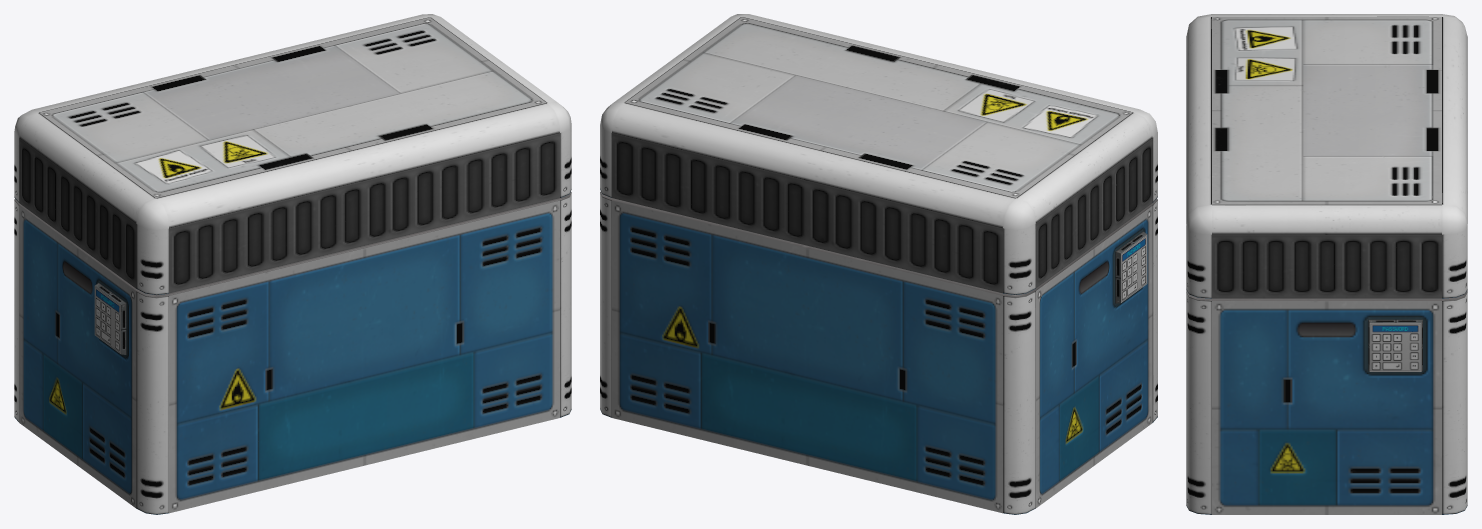
The model's file is Crate_01.FBX.
3 renders of one model, left to right at view 1: azimuth 30°, elevation 25°; view 2: azimuth 150°, elevation 25°; view 3: azimuth 270°, elevation 25°, orthographic.
Parts seen in each view (by area): view 1: CrateBase, CrateTop; view 2: CrateBase, CrateTop; view 3: CrateTop, CrateBase.
Part boxes in pixels (bbox=[...]): CrateBase: bbox=[14, 192, 571, 514]; CrateTop: bbox=[14, 14, 571, 295]; CrateBase: bbox=[600, 191, 1157, 514]; CrateTop: bbox=[600, 14, 1157, 294]; CrateTop: bbox=[1186, 14, 1467, 298]; CrateBase: bbox=[1186, 290, 1467, 514].
Bounding box in the file's own units: 40.59 × 26.92 × 22.84.
